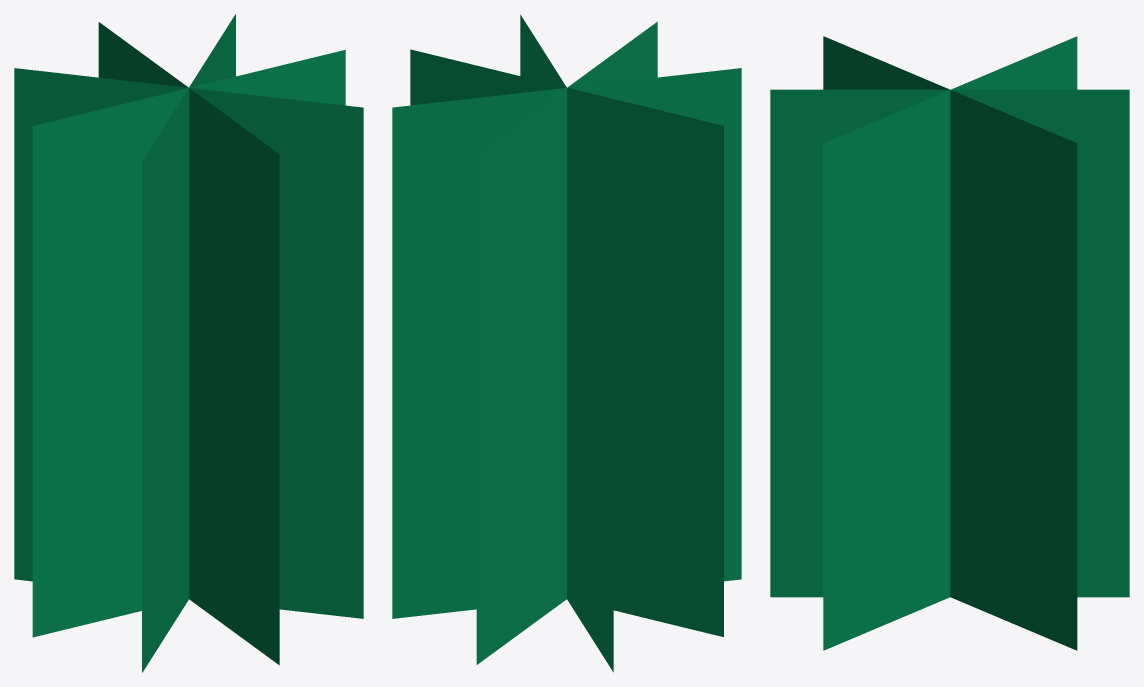
The picture shows the model from 3 angles, left to right: view 1: azimuth 30°, elevation 25°; view 2: azimuth 150°, elevation 25°; view 3: azimuth 270°, elevation 25°; orthographic projection.
Parts seen in each view (by area): view 1: Plane002; view 2: Plane002; view 3: Plane002.
Boxes of the visible parts, x1,y1,x2,y2 form: Plane002: (14, 14, 363, 672); Plane002: (392, 14, 741, 672); Plane002: (770, 36, 1129, 650).
Size of the model in its own units: 18.01 by 28.08 by 18.02.
